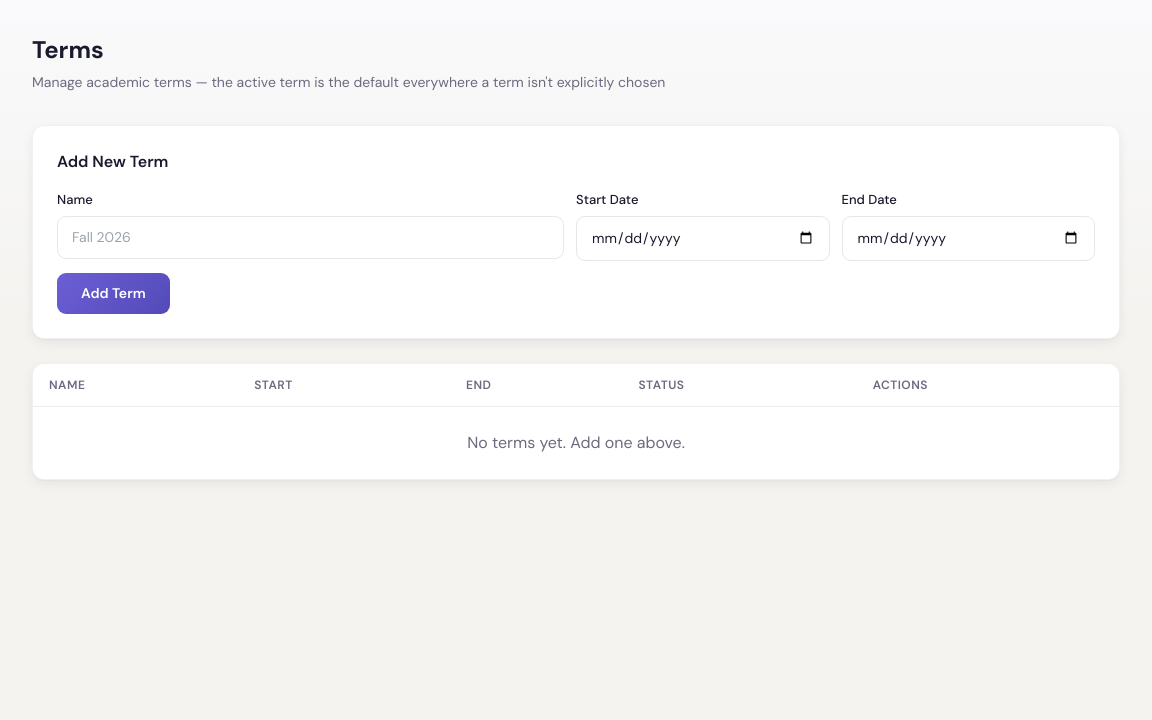
Test case: AdminTerms › rejects an end date on or before the start date
Check: the text "No terms yet. Add one above." is shown, box [33,406,1119,478]
Type "Spring 2026" into the field with placeholder "Fall 2026" at (310, 237), box [57,216,564,258]
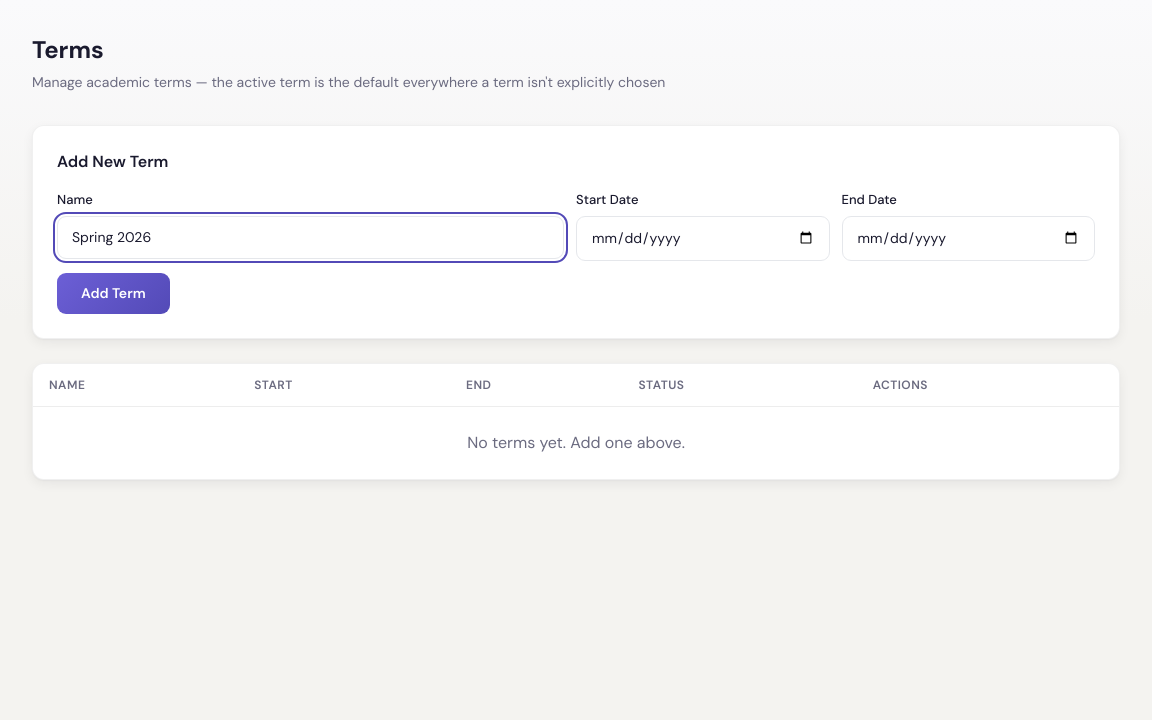
Type "2026-05-01" into the date field labelled "Start Date" at (703, 238), box [576,216,830,260]
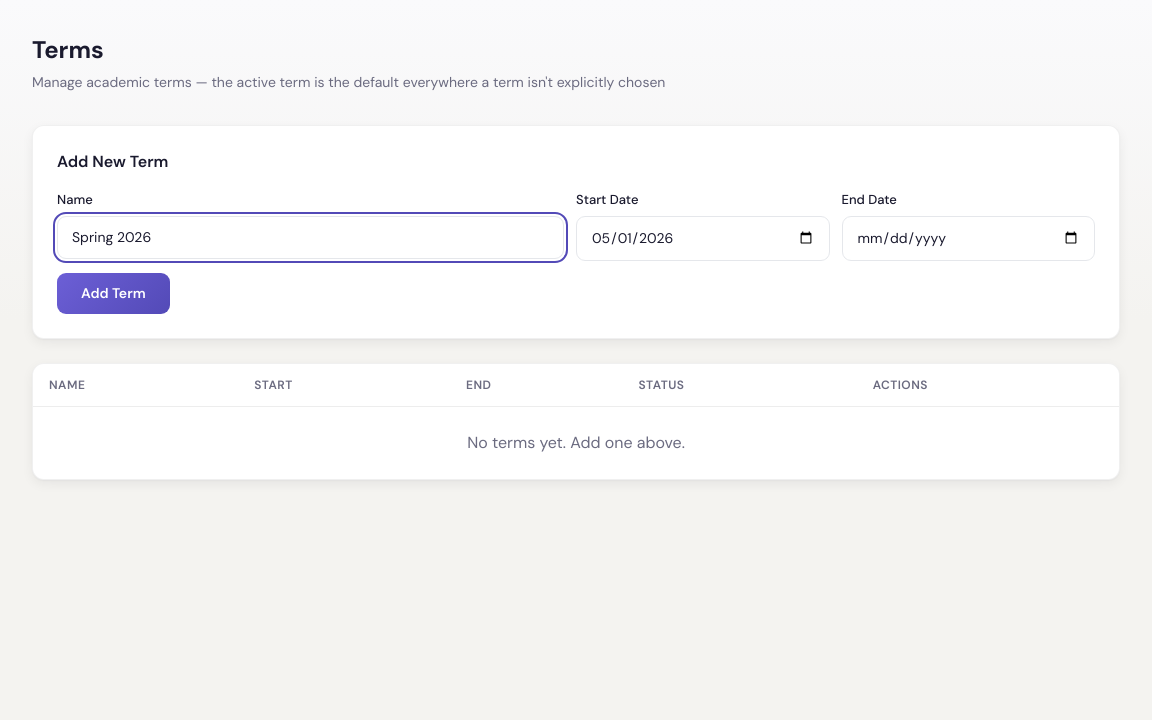
Type "2026-04-01" into the date field labelled "End Date" at (968, 238), box [842,216,1095,260]
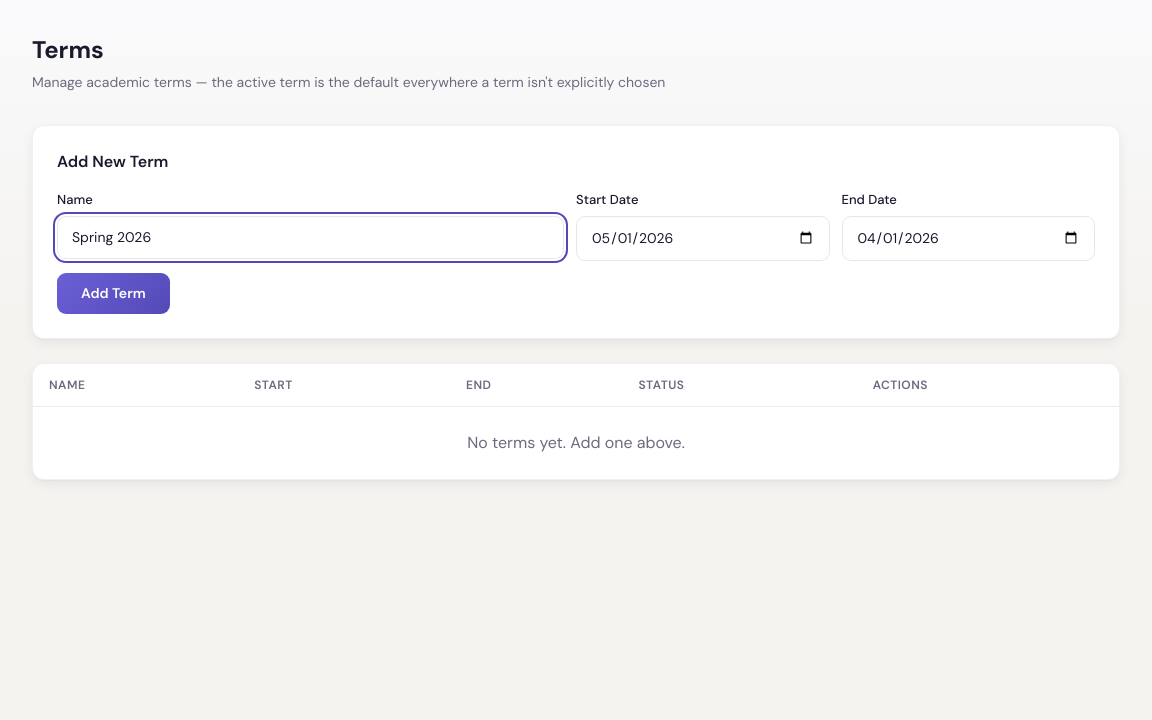
Click the button "Add Term" at (113, 293), box [57,272,170,314]
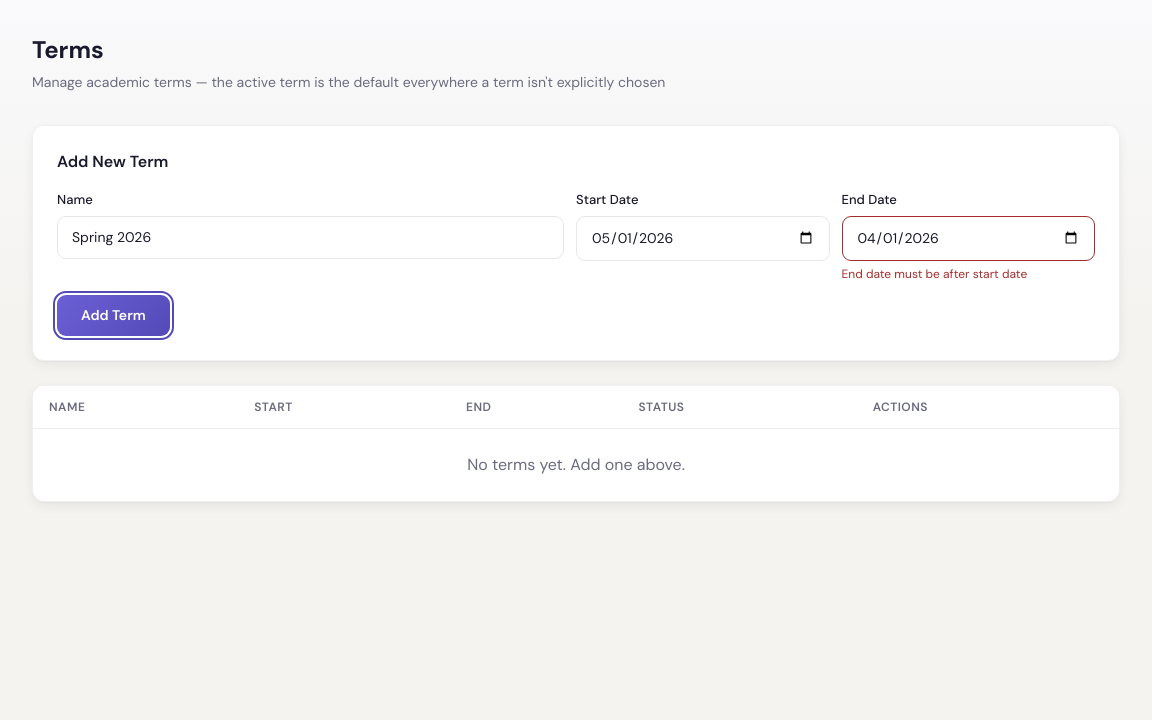
Check: the text "End date must be after start date" is shown, box [842,266,1027,282]
